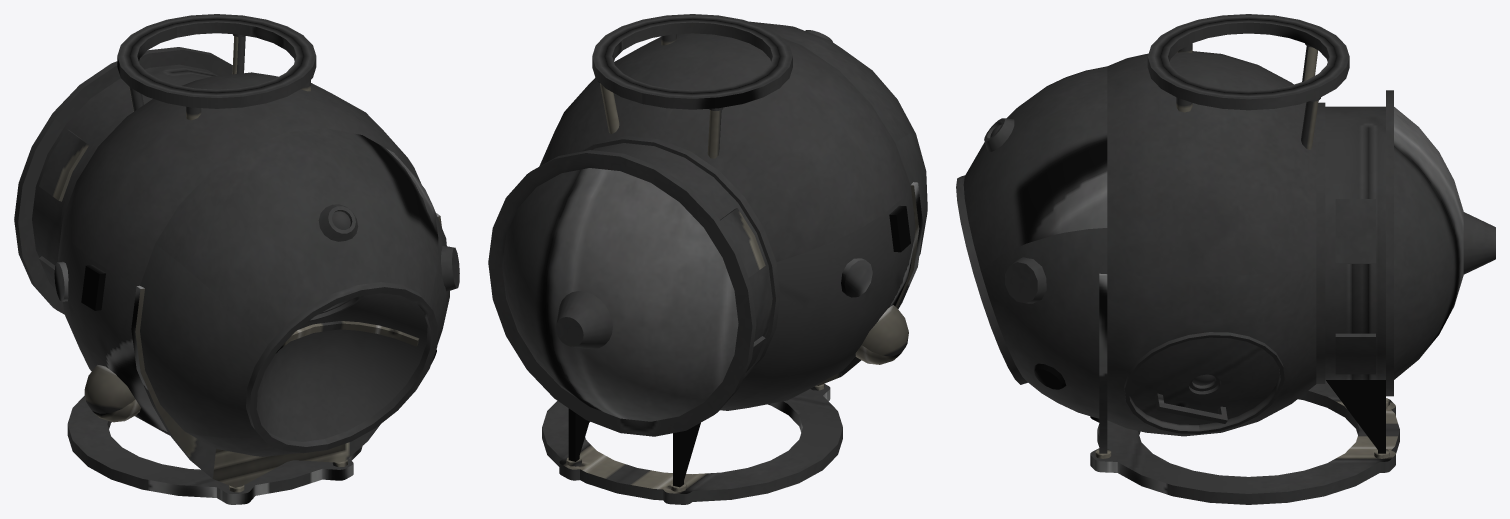
File: crew.fbx
The picture shows the model from 3 angles, left to right: view 1: azimuth 30°, elevation 25°; view 2: azimuth 150°, elevation 25°; view 3: azimuth 270°, elevation 25°; orthographic projection.
Parts seen in each view (by area): view 1: mesh; view 2: mesh; view 3: mesh.
Part boxes in pixels (box(x1,y1,x2,y2)): mesh: box(14, 14, 459, 504); mesh: box(488, 14, 927, 504); mesh: box(956, 14, 1495, 504).
Bounding box in the file's own units: 1.23 × 1.31 × 1.67.
